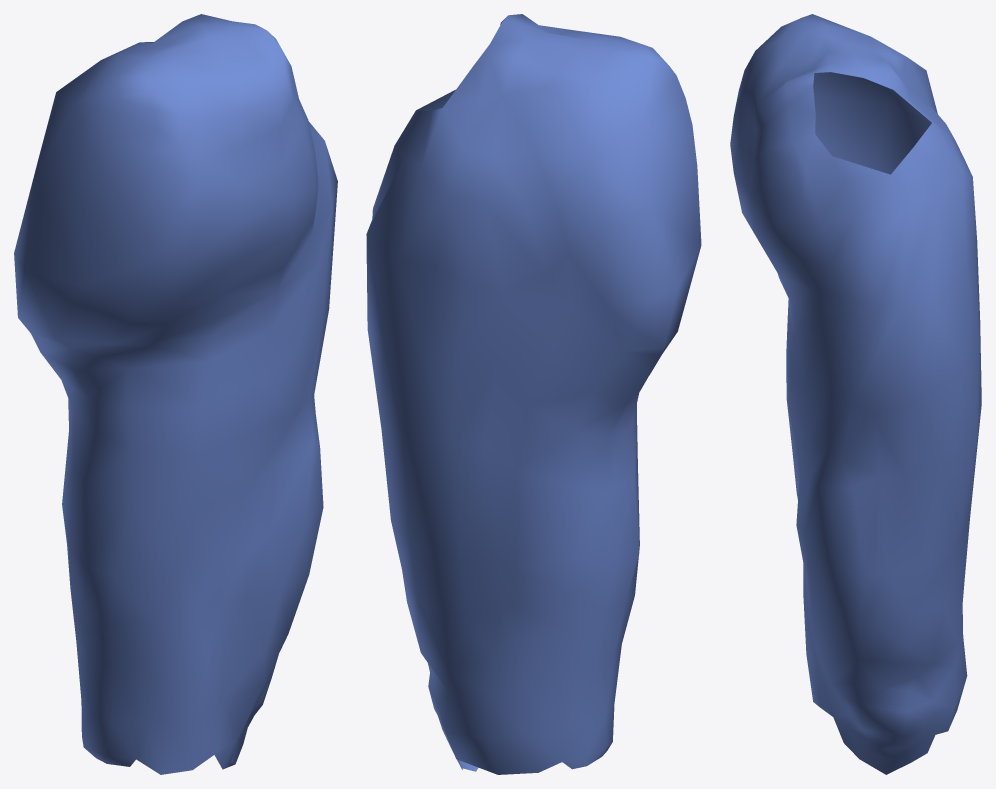
The model's file is LoLeg.L.dae.
The picture shows the model from 3 angles, left to right: view 1: azimuth 30°, elevation 25°; view 2: azimuth 150°, elevation 25°; view 3: azimuth 270°, elevation 25°; orthographic projection. The views are drawn at different scales.
Visible parts, largest first — view 1: LoLeg_L; view 2: LoLeg_L; view 3: LoLeg_L.
Boxes of the visible parts, x1=… form: LoLeg_L: x1=14, y1=14, x2=337, y2=774; LoLeg_L: x1=366, y1=14, x2=701, y2=774; LoLeg_L: x1=730, y1=14, x2=981, y2=774.
Bounding box in the file's own units: 0.2754 × 0.2057 × 0.6363.
